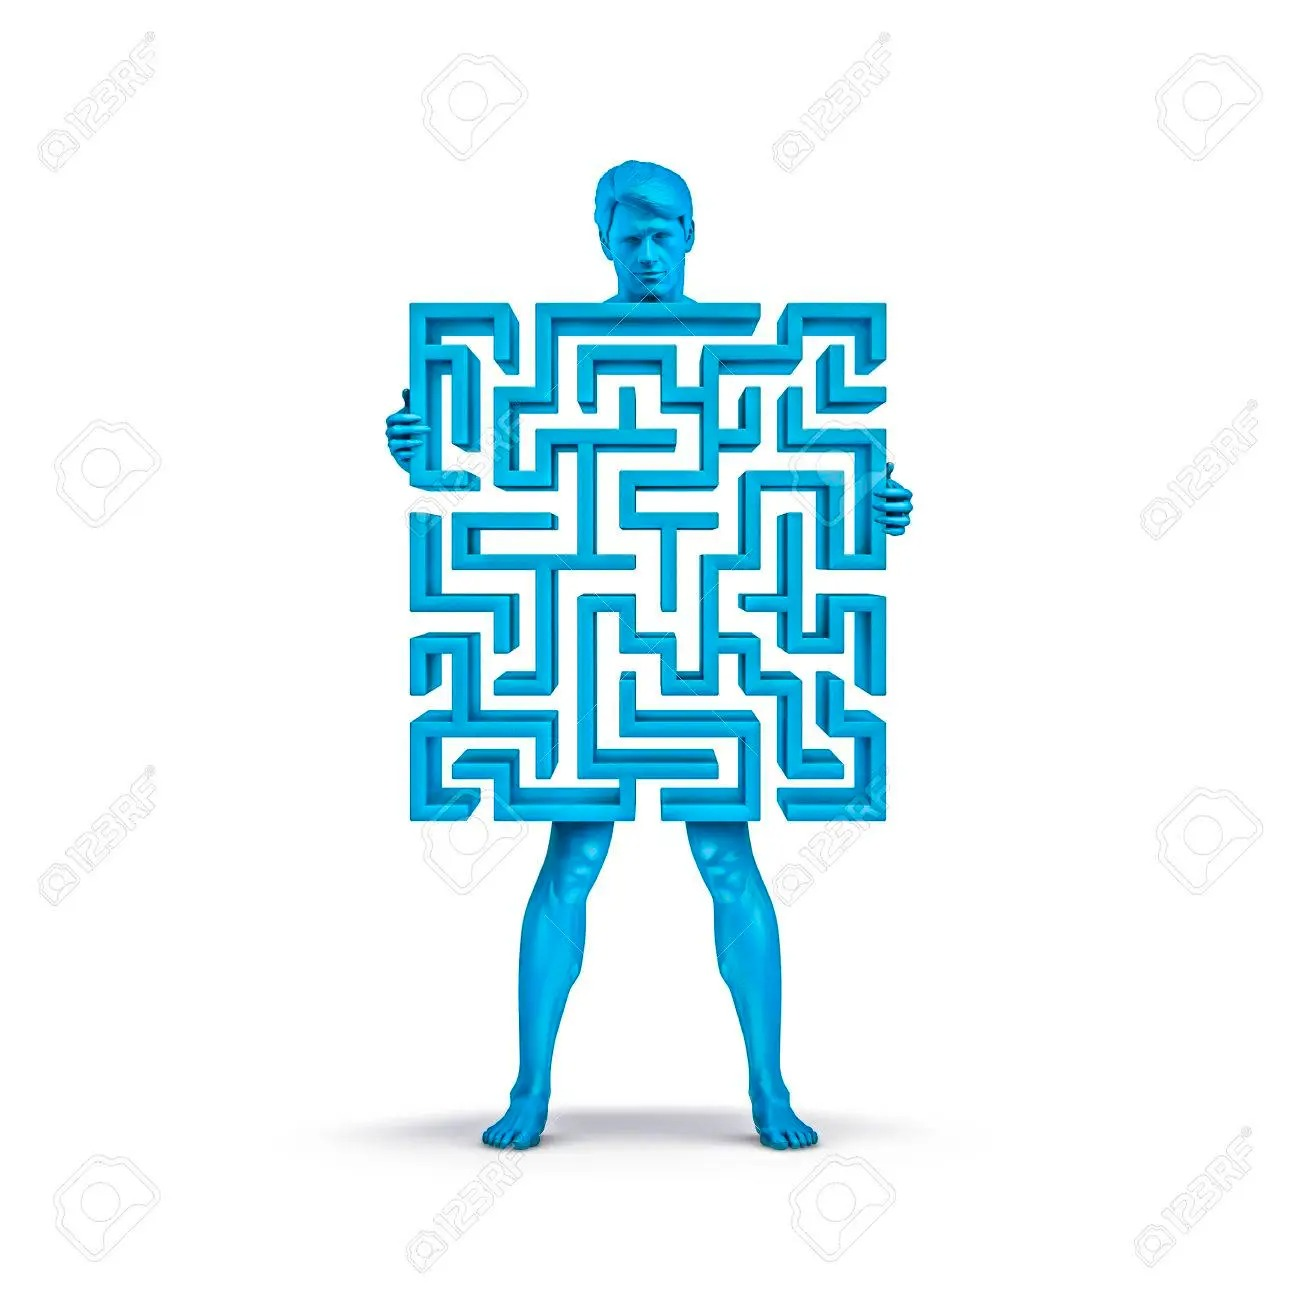maze: (410, 305, 887, 820)
